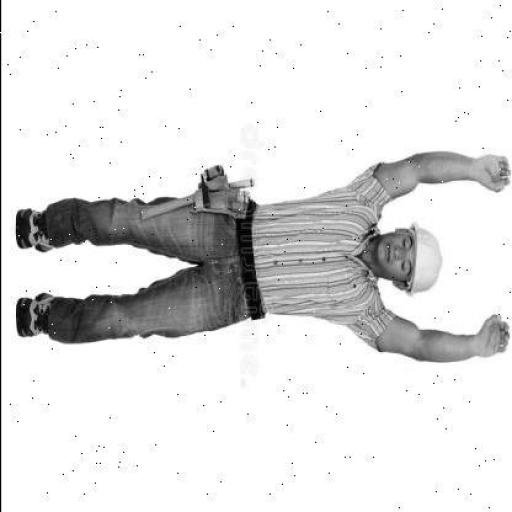person: (17, 158, 509, 360)
safety_shoe: (13, 288, 55, 348), (16, 212, 49, 252)
